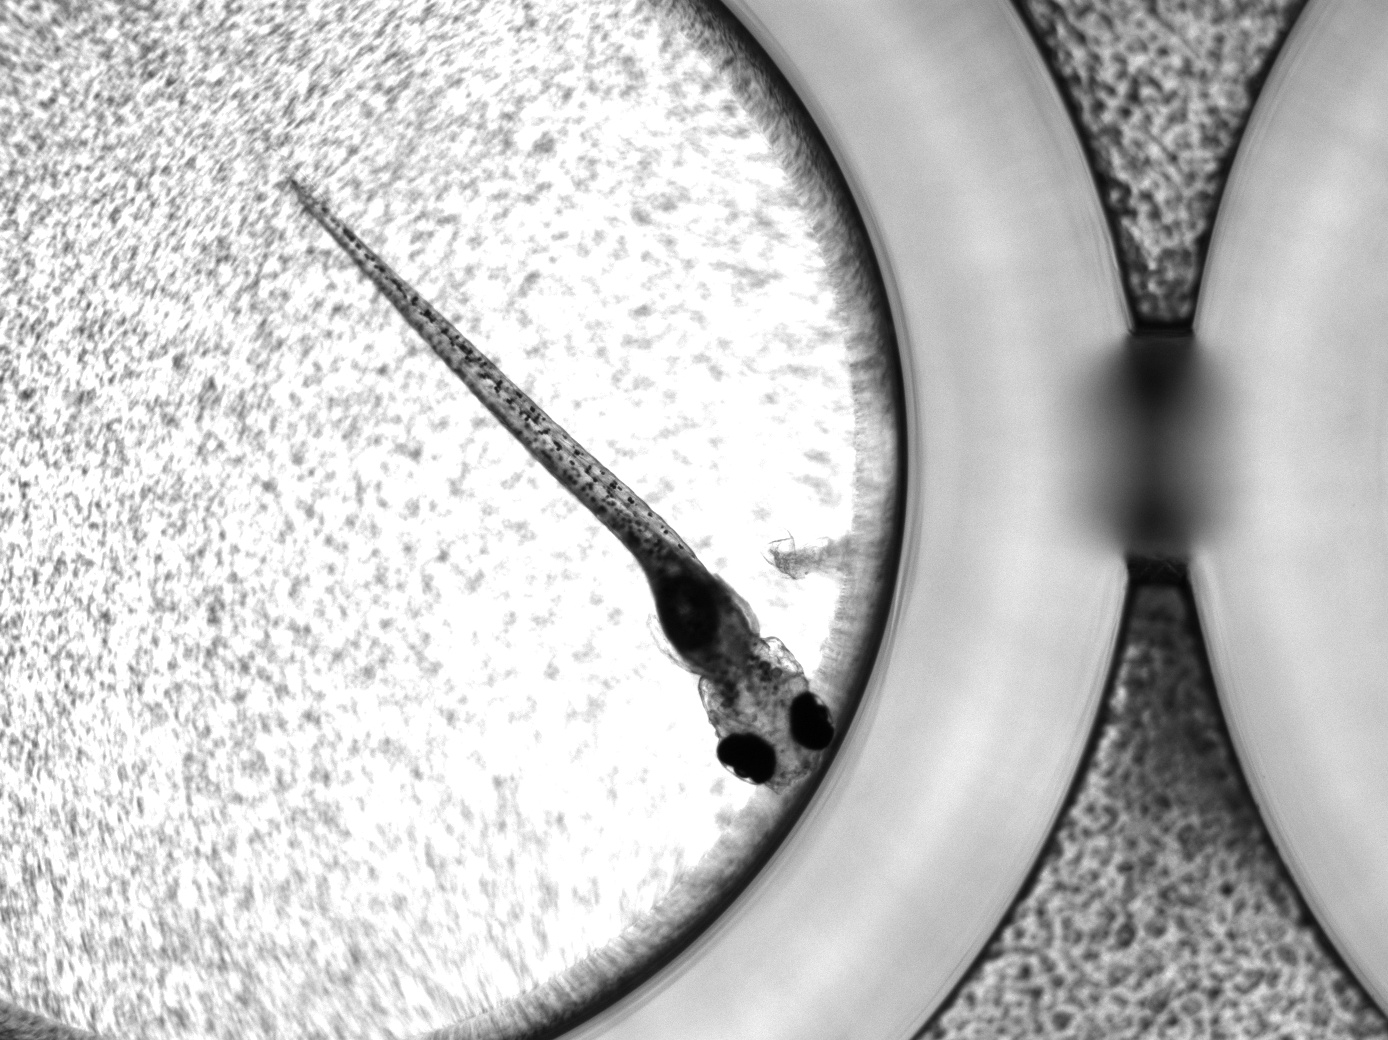embryo: (286, 174, 838, 792)
eye: (716, 730, 780, 785), (788, 692, 837, 753)
yolksac: (621, 525, 758, 685)
